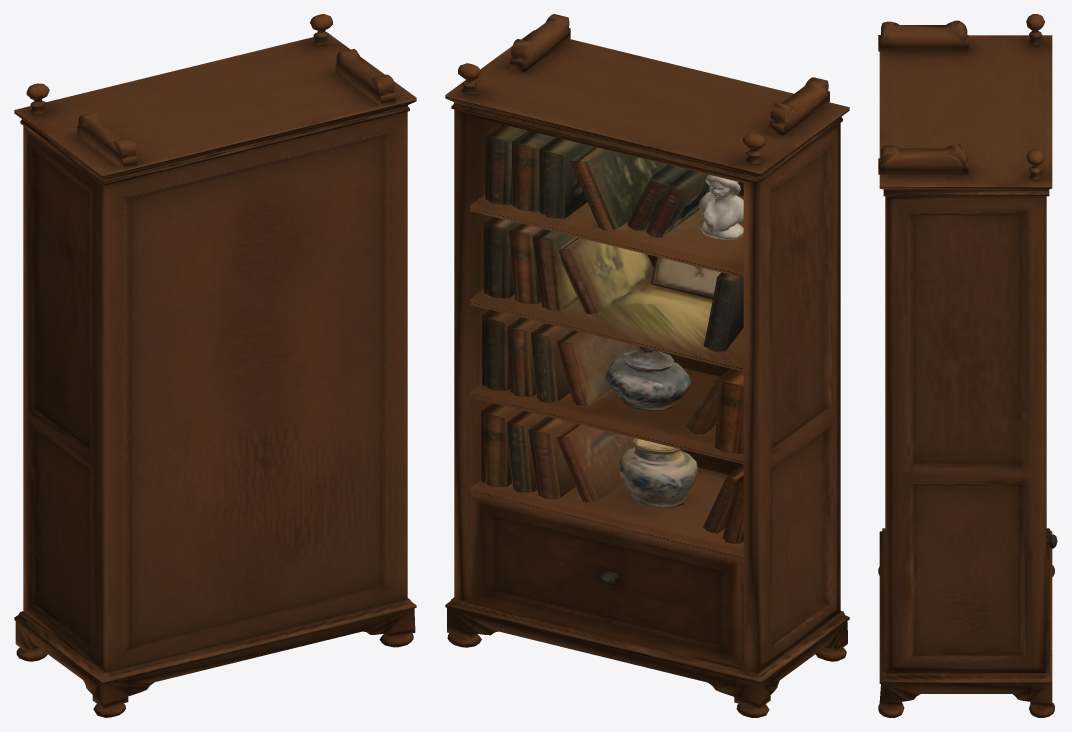
Rendered from furniture-bookcase.glb.
The picture shows the model from 3 angles, left to right: view 1: azimuth 30°, elevation 25°; view 2: azimuth 150°, elevation 25°; view 3: azimuth 270°, elevation 25°; orthographic projection. The views are drawn at different scales.
Parts seen in each view (by area): view 1: tripo_node_7dd36082-b6ef-480d-a539-8eba4e709fbd; view 2: tripo_node_7dd36082-b6ef-480d-a539-8eba4e709fbd; view 3: tripo_node_7dd36082-b6ef-480d-a539-8eba4e709fbd.
Boxes of the visible parts, x1=… form: tripo_node_7dd36082-b6ef-480d-a539-8eba4e709fbd: x1=14, y1=14, x2=416, y2=717; tripo_node_7dd36082-b6ef-480d-a539-8eba4e709fbd: x1=445, y1=14, x2=849, y2=717; tripo_node_7dd36082-b6ef-480d-a539-8eba4e709fbd: x1=878, y1=14, x2=1057, y2=717.
Bounding box in the file's own units: 1.3 × 2.25 × 0.65.
Materials: 1 (1 with a texture image).
